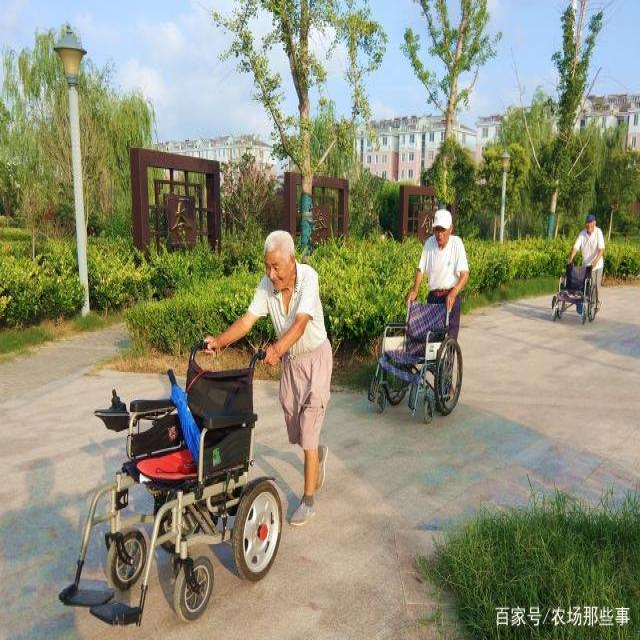wheelchairs: (51, 336, 289, 634), (359, 276, 471, 427), (545, 248, 607, 328)
